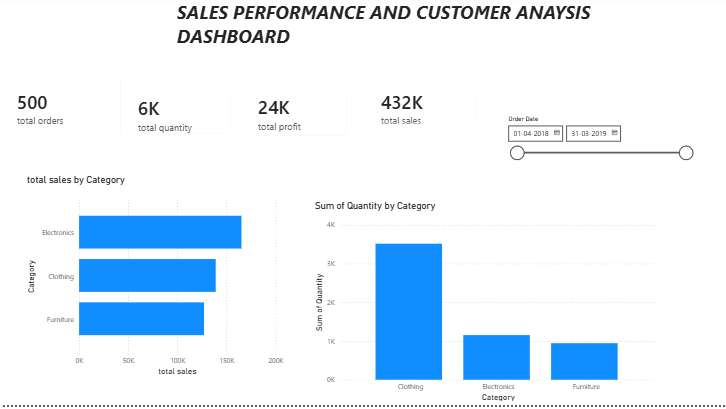

This screenshot's page, from the dashboard's own definition file:
{"tool":"powerbi","page":{"name":"Page 1","canvas":[1280,720],"ordinal":0},"visuals":[{"type":"cardVisual","fields":{"Data":["List of Orders.total orders"]},"box":[0,132,230.1,127.7],"z":0},{"type":"cardVisual","fields":{"Data":["List of Orders.total profit"]},"box":[424.3,146.1,203.3,117.6],"z":1000},{"type":"cardVisual","fields":{"Data":["List of Orders.total quantity"]},"box":[213,153.2,211.7,107.5],"z":2000},{"type":"cardVisual","fields":{"Data":["List of Orders.total sales"]},"box":[640.9,146.1,215,97.4],"z":3000},{"type":"clusteredBarChart","fields":{"Y":["List of Orders.total sales"],"Category":["Order Details.Category"]},"box":[42,314.1,461.9,359.5],"z":4000},{"type":"clusteredColumnChart","fields":{"Y":["Sum(Order Details.Quantity)"],"Category":["Order Details.Category"]},"box":[549.3,359.2,611.4,359.5],"z":5000},{"type":"slicer","fields":{"Values":["List of Orders.Order Date"]},"box":[882.1,204.2,346.9,149.7],"z":5001},{"type":"textbox","box":[306.4,0,787,149.7],"z":5002}]}

Visuals, with their boxes in screenshot pixels (x1, y1, x2, y2), scaled from the page's 1280x720 canvas onto the 726x409 screenshot:
cardVisual - List of Orders.total orders: rect(0, 75, 131, 148)
cardVisual - List of Orders.total profit: rect(241, 83, 356, 150)
cardVisual - List of Orders.total quantity: rect(121, 87, 241, 148)
cardVisual - List of Orders.total sales: rect(364, 83, 485, 138)
clusteredBarChart - List of Orders.total sales x Order Details.Category: rect(24, 178, 286, 383)
clusteredColumnChart - Sum(Order Details.Quantity) x Order Details.Category: rect(312, 204, 658, 408)
slicer - List of Orders.Order Date: rect(500, 116, 697, 201)
textbox: rect(174, 0, 620, 85)
